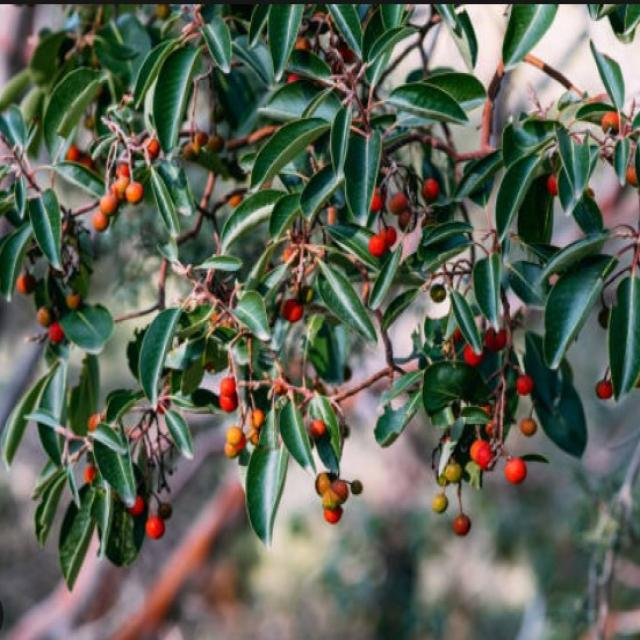Medicinal-Sandalwood: (2, 0, 640, 574)
